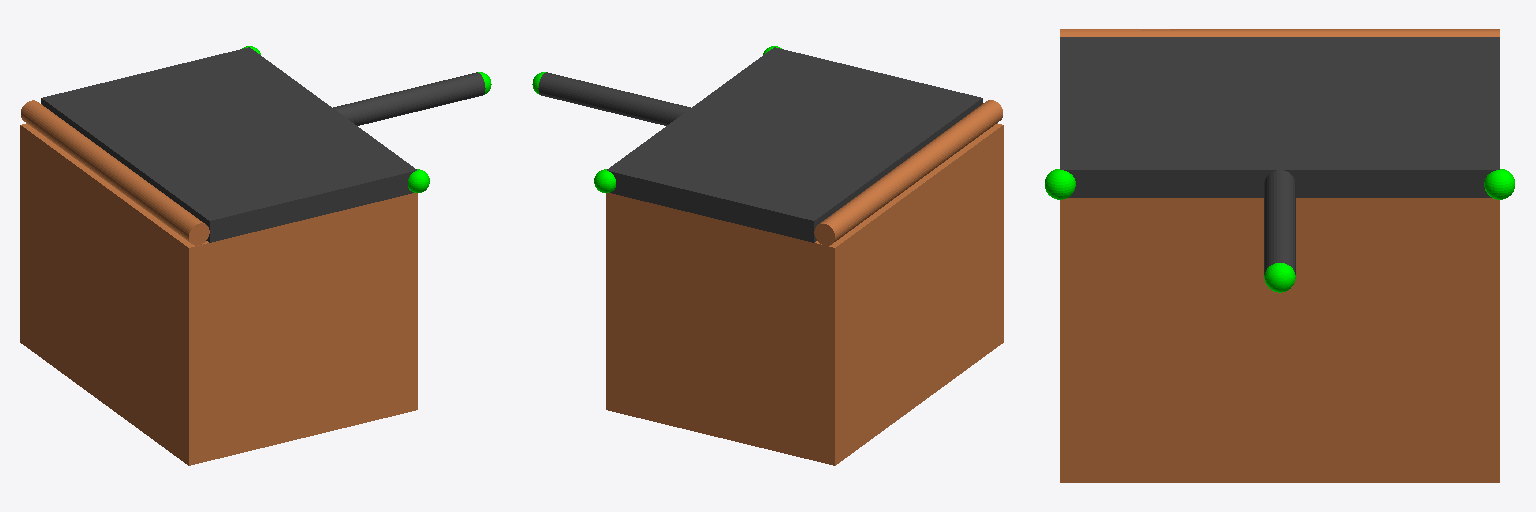
URDF robot description (chest):
<?xml version="1.0" ?>

<robot name="chest">
    <material name="Body">
        <color rgba="0.8 0.5 0.3 1.0"/>
    </material>
    <material name="Door">
        <color rgba="0.3 0.3 0.3 1.0"/>
    </material>
    <material name="KeyPoint">
        <color rgba="0 1 0 0.3"/>
    </material>

    <link name="chest_back_wall">
        <inertial>
            <origin rpy="0 0 0" xyz="0 0 0"/>
            <mass value="0"/>
            <inertia ixx="0.1" ixy="0" ixz="0" iyy="0.1" iyz="0" izz="0.1"/>
        </inertial>
        <visual>
            <origin rpy="0 0 0" xyz="0 0 0"/>
            <geometry>
                <box size="0.01 0.14 0.10"/>
            </geometry>
            <material name="Body"/>
        </visual>
        <collision>
            <origin rpy="0 0 0" xyz="0 0 0"/>
            <geometry>
                <box size="0.01 0.14 0.10"/>
            </geometry>
        </collision>
    </link>

    <joint name="chest_back_front_wall_joint" type="fixed">
        <origin rpy="0 0 0" xyz="0.10 0.0 0"/>
        <parent link="chest_back_wall"/>
        <child link="chest_front_wall"/>
    </joint>
    <link name="chest_front_wall">
        <inertial>
            <origin rpy="0 0 0" xyz="0 0 0"/>
            <mass value="0"/>
            <inertia ixx="0.1" ixy="0" ixz="0" iyy="0.1" iyz="0" izz="0.1"/>
        </inertial>
        <visual>
            <origin rpy="0 0 0" xyz="0 0 0"/>
            <geometry>
                <box size="0.01 0.14 0.10"/>
            </geometry>
            <material name="Body"/>
        </visual>
        <collision>
            <origin rpy="0 0 0" xyz="0 0 0"/>
            <geometry>
                <box size="0.01 0.14 0.10"/>
            </geometry>
        </collision>
    </link>

    <joint name="chest_back_left_wall_joint" type="fixed">
        <origin rpy="0 0 0" xyz="0.05 0.065 0"/>
        <parent link="chest_back_wall"/>
        <child link="chest_left_wall"/>
    </joint>
    <link name="chest_left_wall">
        <inertial>
            <origin rpy="0 0 0" xyz="0 0 0"/>
            <mass value="0"/>
            <inertia ixx="0.1" ixy="0" ixz="0" iyy="0.1" iyz="0" izz="0.1"/>
        </inertial>
        <visual>
            <origin rpy="0 0 0" xyz="0 0 0"/>
            <geometry>
                <box size="0.09 0.01 0.10"/>
            </geometry>
            <material name="Body"/>
        </visual>
        <collision>
            <origin rpy="0 0 0" xyz="0 0 0"/>
            <geometry>
                <box size="0.09 0.01 0.10"/>
            </geometry>
        </collision>
    </link>

    <joint name="chest_back_right_wall_joint" type="fixed">
        <origin rpy="0 0 0" xyz="0.05 -0.065 0.0"/>
        <parent link="chest_back_wall"/>
        <child link="chest_right_wall"/>
    </joint>
    <link name="chest_right_wall">
        <inertial>
            <origin rpy="0 0 0" xyz="0 0 0"/>
            <mass value="0"/>
            <inertia ixx="0.1" ixy="0" ixz="0" iyy="0.1" iyz="0" izz="0.1"/>
        </inertial>
        <visual>
            <origin rpy="0 0 0" xyz="0 0 0"/>
            <geometry>
                <box size="0.09 0.01 0.10"/>
            </geometry>
            <material name="Body"/>
        </visual>
        <collision>
            <origin rpy="0 0 0" xyz="0 0 0"/>
            <geometry>
                <box size="0.09 0.01 0.10"/>
            </geometry>
        </collision>
    </link>

    <joint name="chest_back_wall_bearing_joint" type="revolute">
        <origin rpy="1.57 0 0" xyz="0.0 0.0 0.055"/>
        <parent link="chest_back_wall"/>
        <child link="chest_door_bearing"/>
        <axis xyz="0 0 1"/>
        <limit effort="200" lower="0.0" upper="1.57" velocity="10"/>
    </joint>
    <link name="chest_door_bearing">
        <inertial>
            <origin rpy="0 0 0" xyz="0 0 0"/>
            <mass value="1"/>
            <inertia ixx="0.1" ixy="0" ixz="0" iyy="0.1" iyz="0" izz="0.1"/>
        </inertial>
        <visual>
            <origin rpy="0 0 0" xyz="0 0 0"/>
            <geometry>
                <cylinder radius="0.005" length="0.14"/>
            </geometry>
            <material name="Body"/>
        </visual>
        <collision>
            <origin rpy="0 0 0" xyz="0 0 0"/>
            <geometry>
                <cylinder radius="0.005" length="0.14"/>
            </geometry>
        </collision>
    </link>

    <joint name="chest_door_bearing_joint" type="fixed">
        <origin rpy="-1.57 0 0" xyz="0.055 0.0 0.0"/>
        <parent link="chest_door_bearing"/>
        <child link="chest_door"/>
    </joint>
    <link name="chest_door">
        <inertial>
            <origin rpy="0 0 0" xyz="0 0 0"/>
            <mass value="2"/>
            <inertia ixx="0.1" ixy="0" ixz="0" iyy="0.1" iyz="0" izz="0.1"/>
        </inertial>
        <visual>
            <origin rpy="0 0 0" xyz="0 0 0"/>
            <geometry>
                <box size="0.10 0.14 0.01"/>
            </geometry>
            <material name="Door"/>
        </visual>
        <collision>
            <origin rpy="0 0 0" xyz="0 0 0"/>
            <geometry>
                <box size="0.10 0.14 0.01"/>
            </geometry>
        </collision>
    </link>

    <joint name="chest_door_left_keypoint_joint" type="fixed">
        <origin rpy="0 0 0" xyz="0.05 0.07 0.0"/>
        <parent link="chest_door"/>
        <child link="chest_door_left_keypoint"/>
    </joint>
    <link name="chest_door_left_keypoint">
        <inertial>
            <origin rpy="0 0 0" xyz="0 0 0"/>
            <mass value="0.0"/>
            <inertia ixx="0.1" ixy="0" ixz="0" iyy="0.1" iyz="0" izz="0.1"/>
        </inertial>
        <visual>
            <origin rpy="0 0 0" xyz="0 0 0"/>
            <geometry>
                <sphere radius="0.005"/>
            </geometry>
            <material name="KeyPoint"/>
        </visual>
    </link>
    <joint name="chest_door_right_keypoint_joint" type="fixed">
        <origin rpy="0 0 0" xyz="0.05 -0.07 0.0"/>
        <parent link="chest_door"/>
        <child link="chest_door_right_keypoint"/>
    </joint>
    <link name="chest_door_right_keypoint">
        <inertial>
            <origin rpy="0 0 0" xyz="0 0 0"/>
            <mass value="0.0"/>
            <inertia ixx="0.1" ixy="0" ixz="0" iyy="0.1" iyz="0" izz="0.1"/>
        </inertial>
        <visual>
            <origin rpy="0 0 0" xyz="0 0 0"/>
            <geometry>
                <sphere radius="0.005"/>
            </geometry>
            <material name="KeyPoint"/>
        </visual>
    </link>

    <joint name="chest_door_handle_joint" type="fixed">
        <origin rpy="0 1.57 0" xyz="0.085    0.0 0.0"/>
        <parent link="chest_door"/>
        <child link="chest_door_handle"/>
    </joint>
    <link name="chest_door_handle">
        <contact>
            <lateral_friction value="1.0"/>
            <rolling_friction value="0.0"/>
            <inertia_scaling value="3.0"/>
            <contact_cfm value="0.0"/>
            <contact_erp value="1.0"/>
        </contact>
        <inertial>
            <origin rpy="0 0 0" xyz="0 0 0"/>
            <mass value="2"/>
            <inertia ixx="0.1" ixy="0" ixz="0" iyy="0.1" iyz="0" izz="0.1"/>
        </inertial>
        <visual>
            <origin rpy="0 0 0" xyz="0 0 0"/>
            <geometry>
                <cylinder radius="0.005" length="0.07"/>
            </geometry>
            <material name="Door"/>
        </visual>
        <collision>
            <origin rpy="0 0 0" xyz="0 0 0"/>
            <geometry>
                <cylinder radius="0.005" length="0.08"/>
            </geometry>
        </collision>
    </link>
    <joint name="chest_door_handle_keypoint_joint" type="fixed">
        <origin rpy="0 0 0" xyz="0.0 0.0 0.035"/>
        <parent link="chest_door_handle"/>
        <child link="chest_door_handle_keypoint"/>
    </joint>
    <link name="chest_door_handle_keypoint">
        <inertial>
            <origin rpy="0 0 0" xyz="0 0 0"/>
            <mass value="0.0"/>
            <inertia ixx="0.1" ixy="0" ixz="0" iyy="0.1" iyz="0" izz="0.1"/>
        </inertial>
        <visual>
            <origin rpy="0 0 0" xyz="0 0 0"/>
            <geometry>
                <sphere radius="0.005"/>
            </geometry>
            <material name="KeyPoint"/>
        </visual>
    </link>
</robot>

--- Facts derived from the render (not from the file) ---
The picture shows the robot from 3 angles, left to right: view 1: azimuth 30°, elevation 25°; view 2: azimuth 150°, elevation 25°; view 3: azimuth 270°, elevation 25°; orthographic projection.
Model chest with 10 links and 9 joints (1 revolute, 8 fixed), rooted at chest_back_wall, posed all joints at 0.
Links seen in each view (by area): view 1: chest_back_wall, chest_right_wall, chest_door, chest_door_bearing, chest_front_wall, chest_door_handle; view 2: chest_back_wall, chest_left_wall, chest_door, chest_door_bearing, chest_front_wall, chest_door_handle; view 3: chest_front_wall, chest_door, chest_door_bearing, chest_door_handle, chest_door_left_keypoint, chest_door_right_keypoint, chest_door_handle_keypoint.
Boxes of the visible links, x1,y1,x2,y2 form: chest_back_wall: (20,123,209,465); chest_right_wall: (210,197,396,460); chest_door: (41,47,416,242); chest_door_bearing: (21,100,209,245); chest_front_wall: (397,193,417,414); chest_door_handle: (333,72,485,125); chest_back_wall: (814,123,1003,465); chest_left_wall: (627,197,813,460); chest_door: (607,47,982,242); chest_door_bearing: (814,100,1002,245); chest_front_wall: (606,193,626,414); chest_door_handle: (538,72,690,125); chest_front_wall: (1060,198,1499,482); chest_door: (1060,37,1499,197); chest_door_bearing: (1060,29,1499,36); chest_door_handle: (1264,170,1295,274); chest_door_left_keypoint: (1484,169,1514,199); chest_door_right_keypoint: (1045,169,1075,199); chest_door_handle_keypoint: (1264,263,1295,292).
Bounding box of the posed robot: 0.185 × 0.15 × 0.1101 m (x, y, z).
Geometry: primitives only (box / cylinder / sphere), no mesh files.